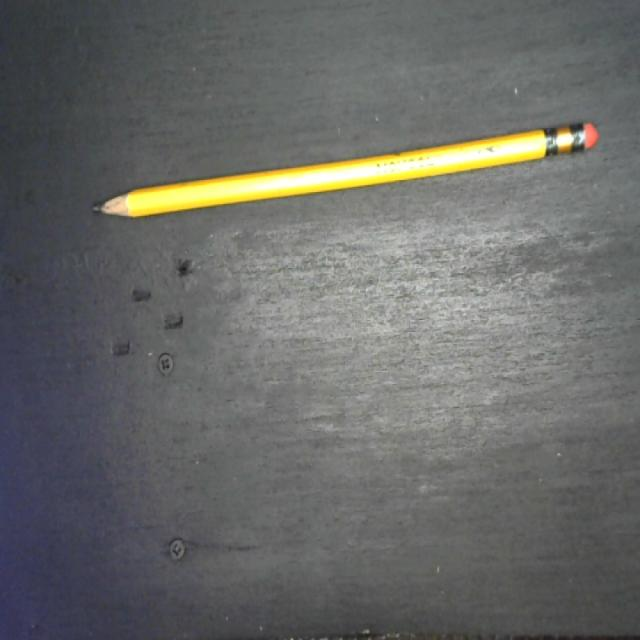biodegradable: (89, 114, 600, 222)
